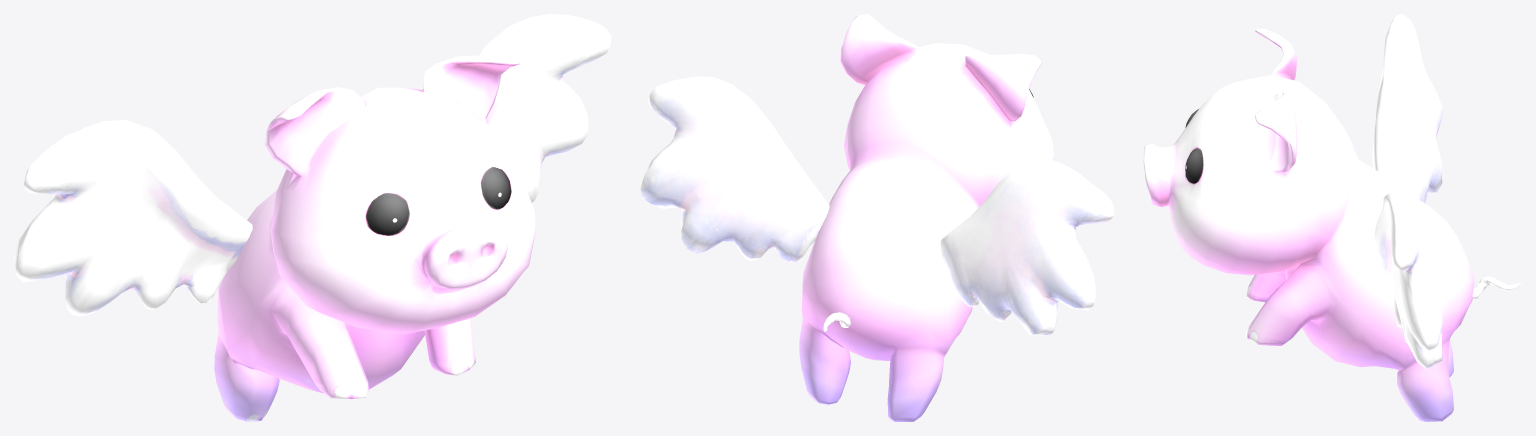
File: pinkPig.glb
The picture shows the model from 3 angles, left to right: view 1: azimuth 30°, elevation 25°; view 2: azimuth 150°, elevation 25°; view 3: azimuth 270°, elevation 25°; orthographic projection. The views are drawn at different scales.
Visible parts, largest first — view 1: Pig, WingLP; view 2: Pig, WingLP; view 3: Pig, WingLP, Tail.001.
Part boxes in pixels (x1,y1,x2,y2): Pig: [214, 55, 536, 421]; WingLP: [14, 14, 611, 316]; Pig: [799, 14, 1054, 421]; WingLP: [640, 76, 1114, 335]; Pig: [1143, 28, 1474, 421]; WingLP: [1372, 14, 1442, 369]; Tail.001: [1472, 276, 1521, 299].
Size of the model in its own units: 4.16 by 2.7 by 2.8.
3 materials, 3 textured.
